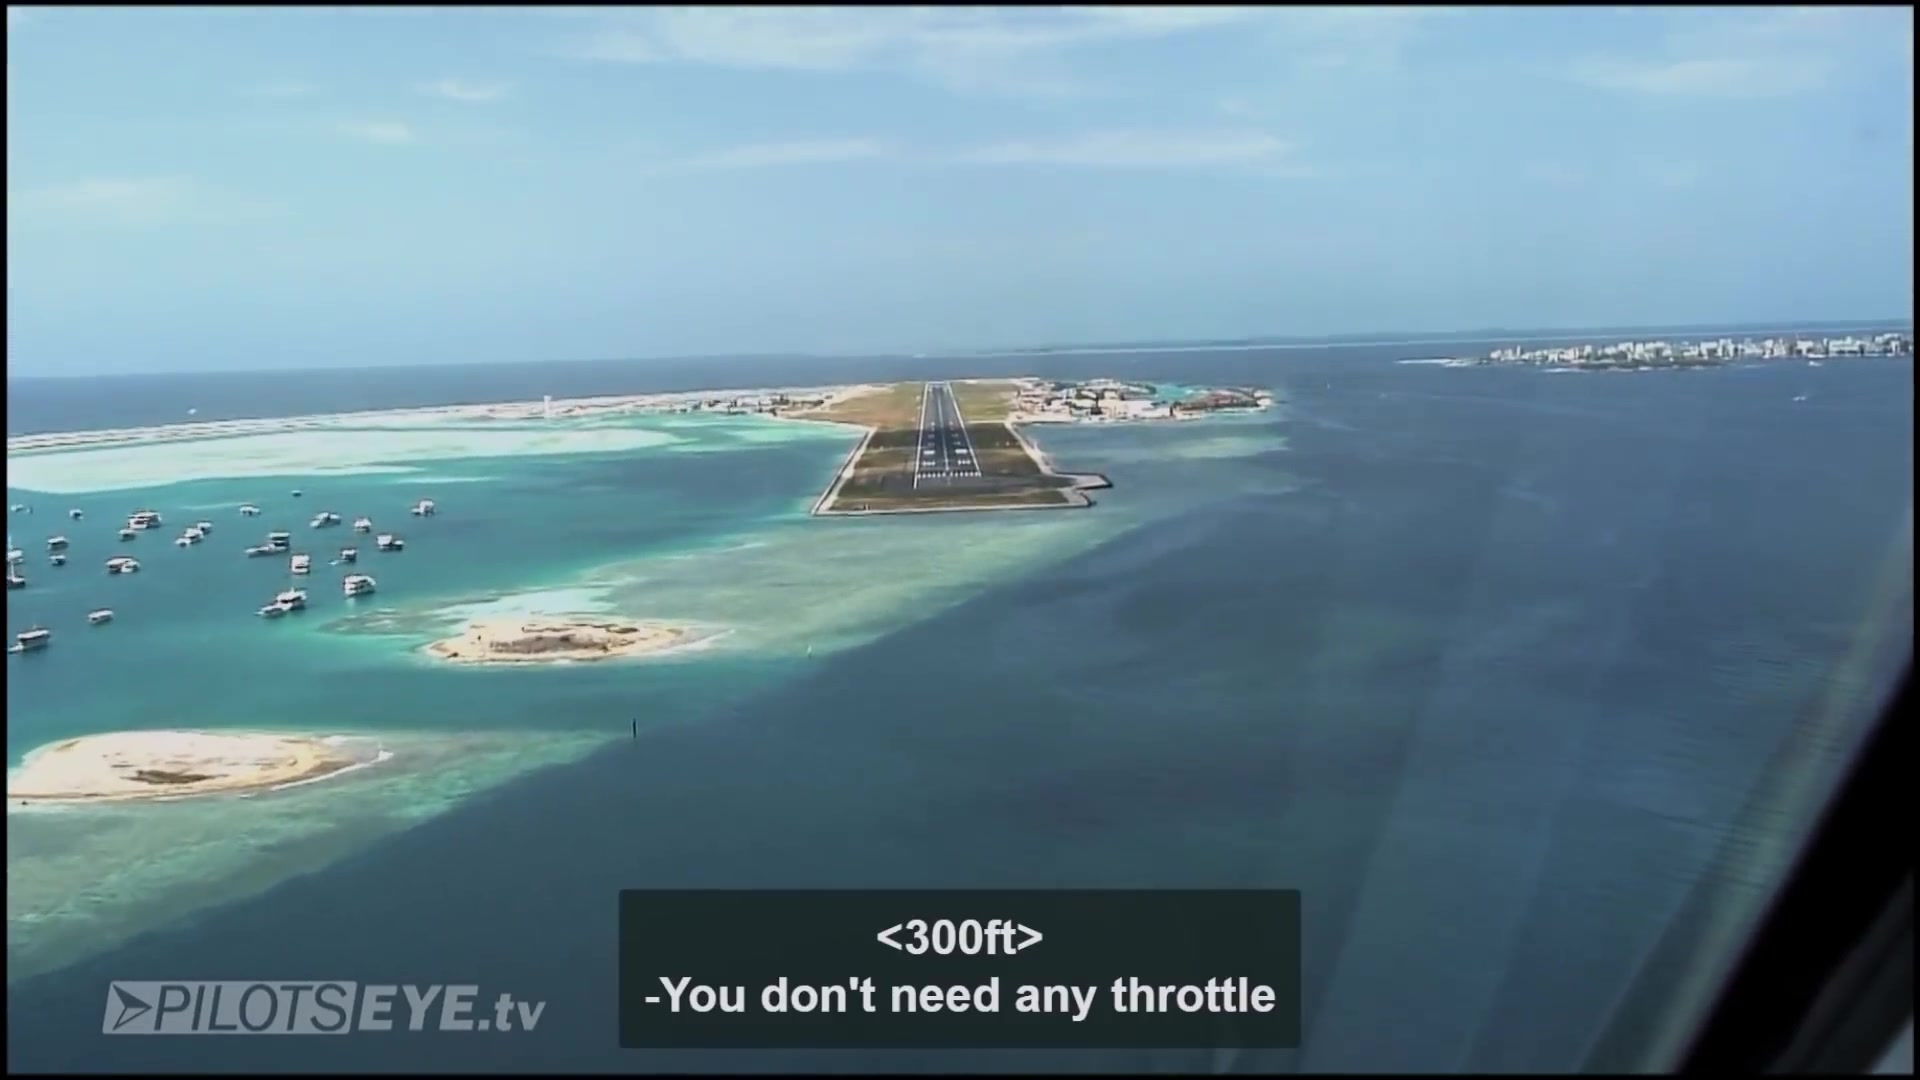entrance: (913, 469, 977, 483)
runway: (909, 381, 981, 493)
